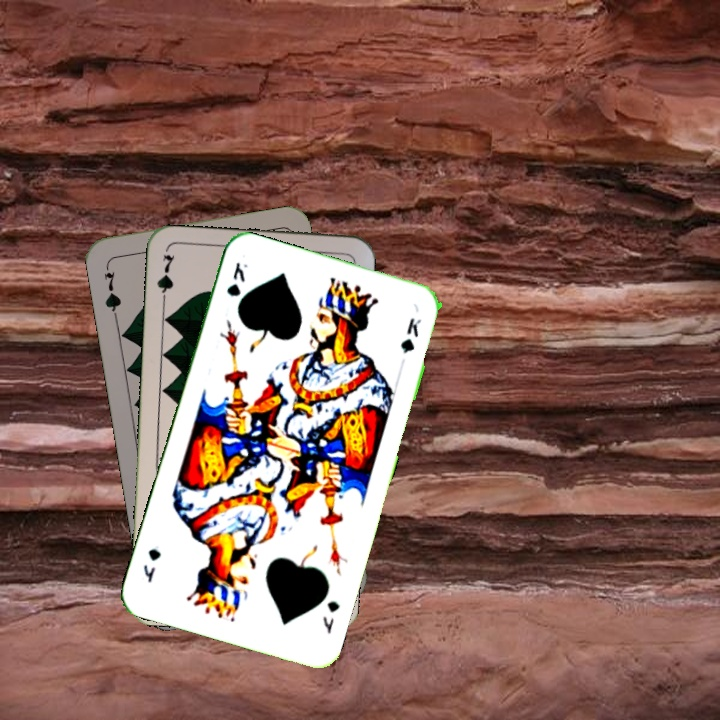G7: (99, 260, 124, 320), (153, 250, 177, 309)
GK: (222, 258, 250, 299), (318, 596, 343, 637)
